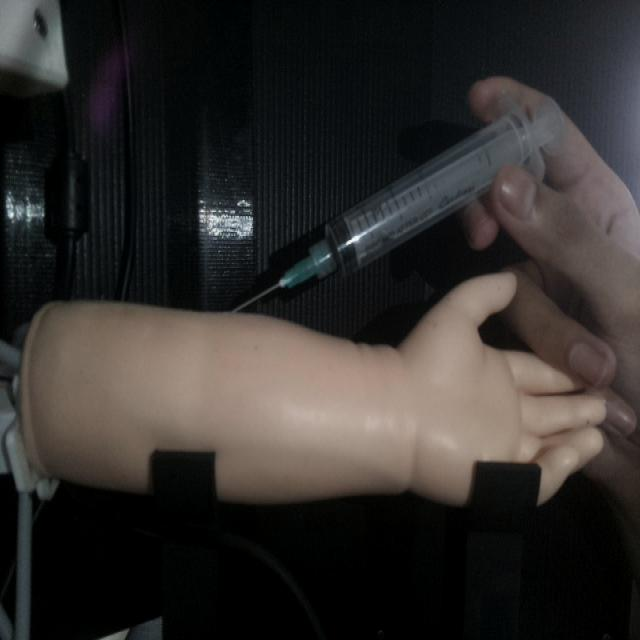Above 30 degrees: (227, 93, 562, 316)
